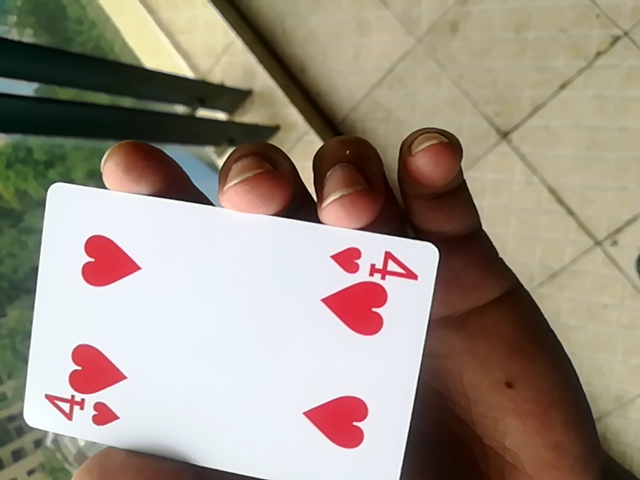hx 4: (20, 180, 439, 480)
